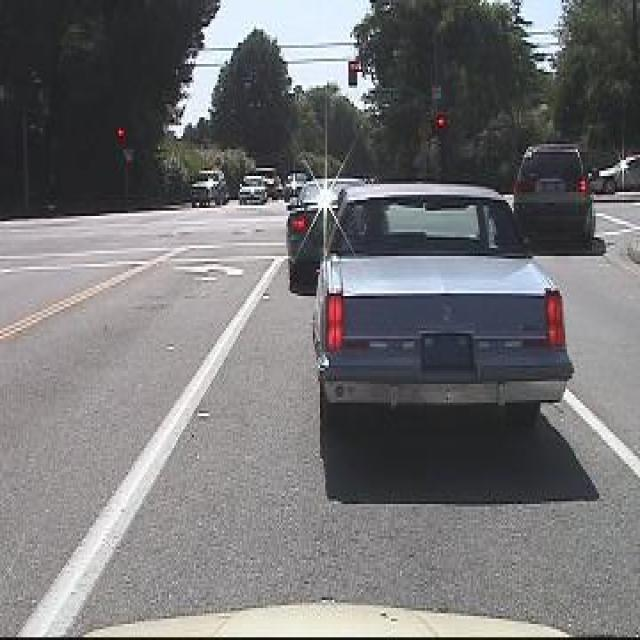car_back: (304, 166, 582, 477), (504, 139, 600, 253)
car_front: (186, 164, 232, 219), (235, 166, 268, 213)
